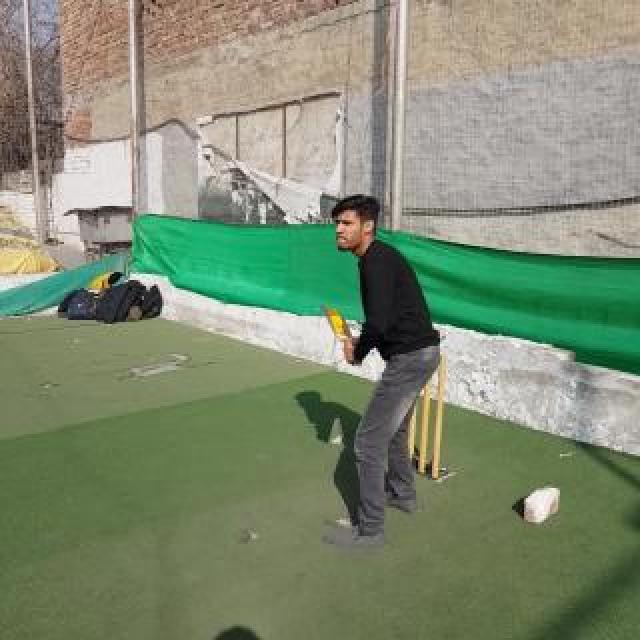bat: (319, 303, 361, 367)
